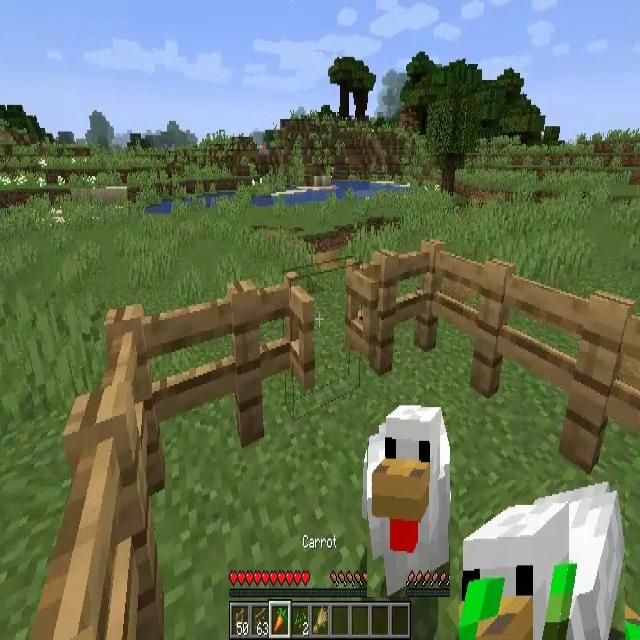duck: (460, 480, 626, 640), (367, 402, 450, 597)
